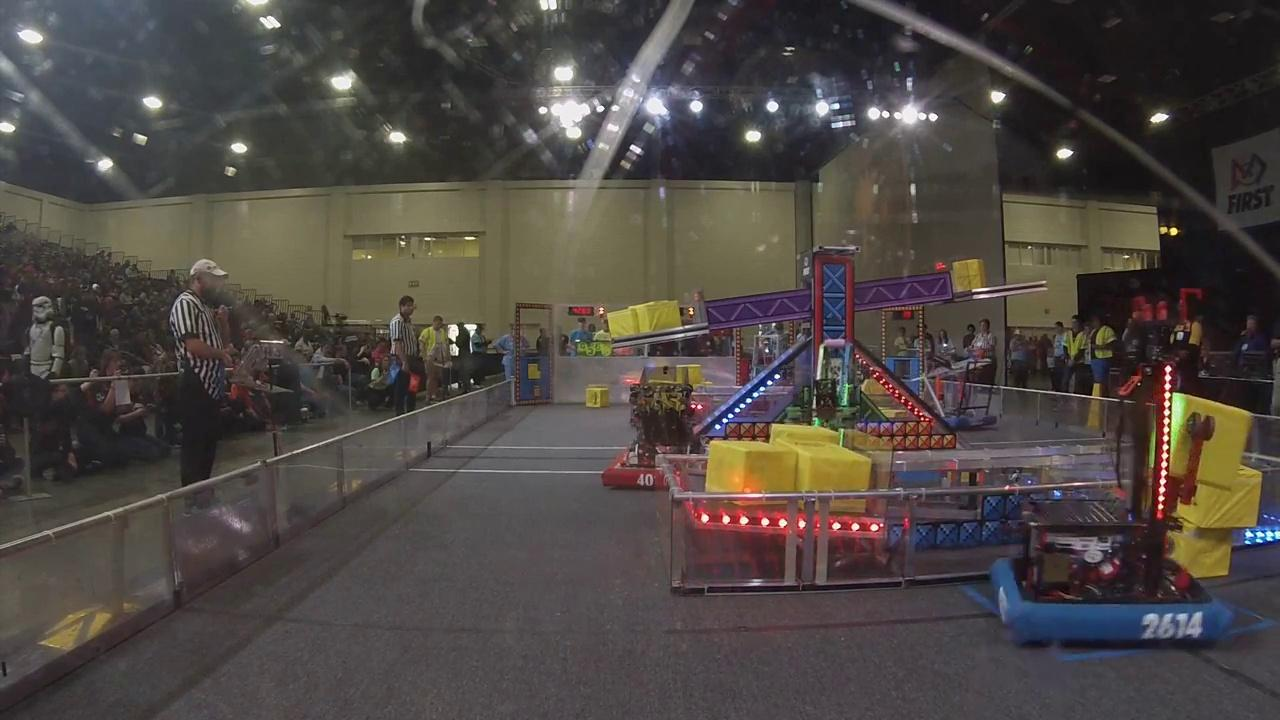robot: (983, 342, 1250, 653), (600, 360, 708, 492)
